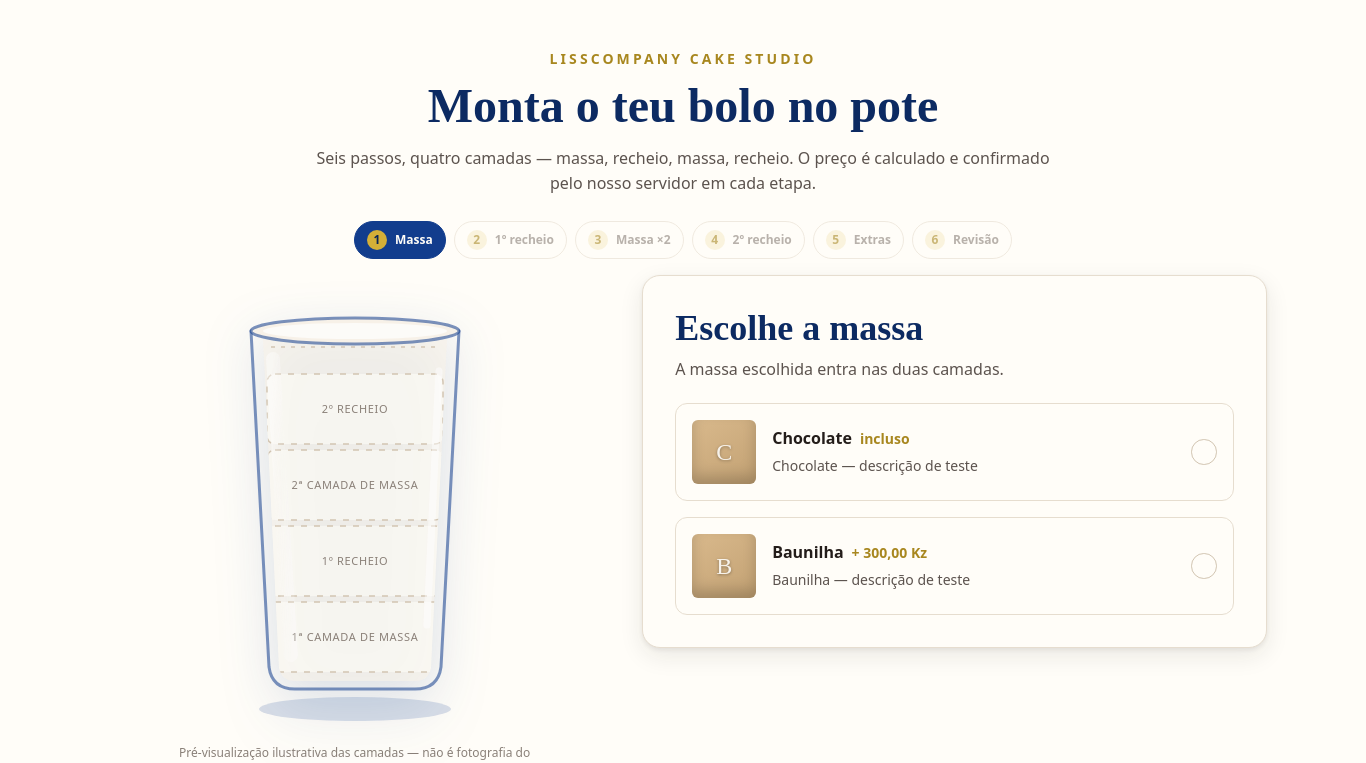
Test: CakeStudioPage — percurso completo › não avança de um passo sem a escolha obrigatória
Check: the button "2 1º recheio" is disabled, box [454,221,567,259]
Click the radio button showing "base-chocolate". click: point(724, 452)
box: [675,403,1234,501]
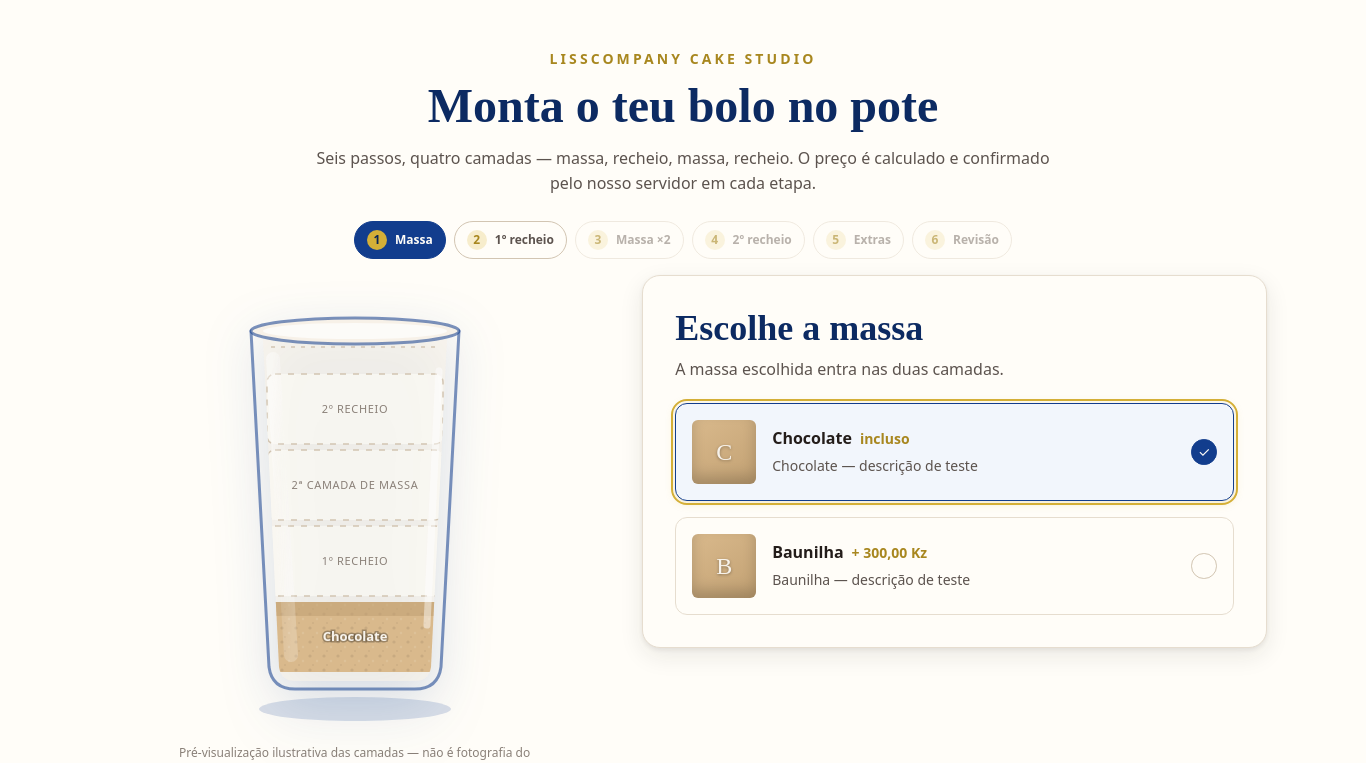
Check: the button "2 1º recheio" is enabled, box [454,221,567,259]
